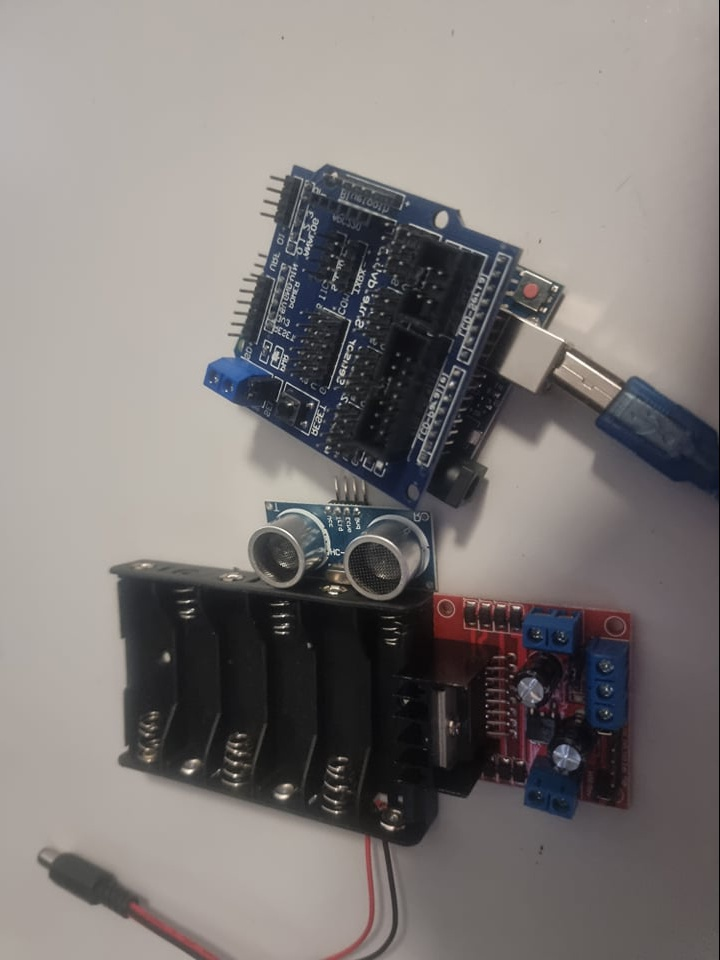5V EXPANSION: (202, 166, 509, 507)
BATTERY BOX: (103, 558, 442, 847)
MOTOR: (392, 604, 636, 826)
SENSOR: (244, 502, 437, 598)
UNO R3: (463, 263, 588, 512)
